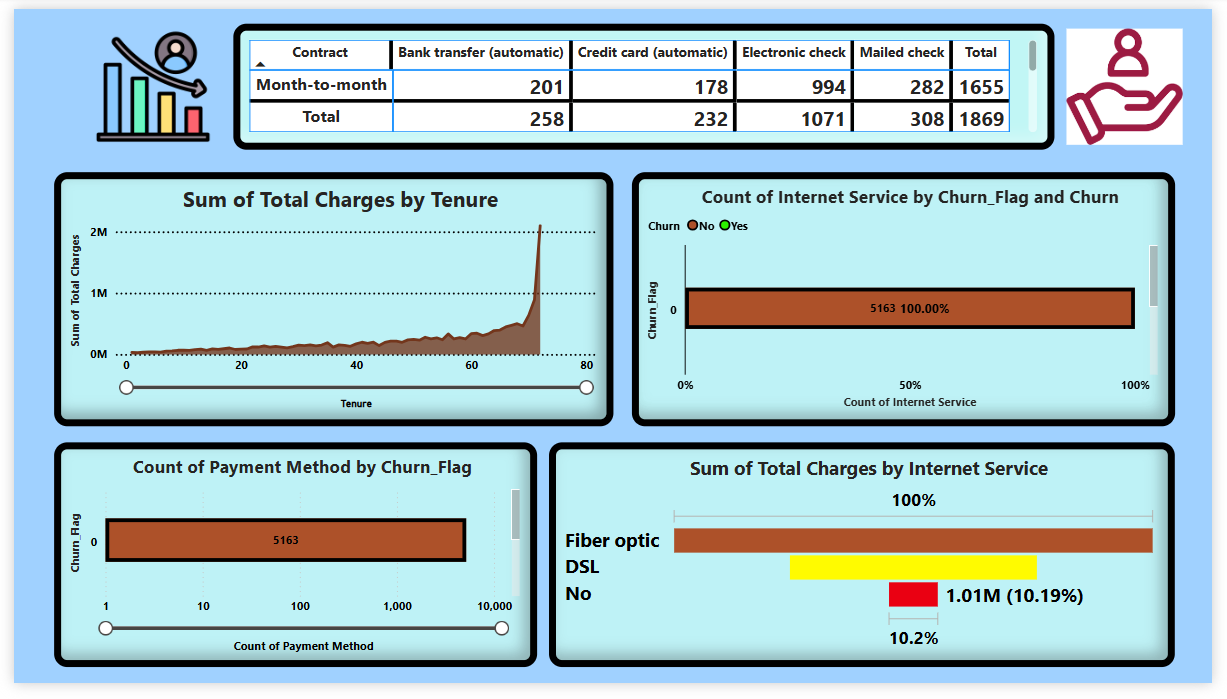

The page's visual inventory and layout, read from the dashboard file:
{"tool":"powerbi","page":{"name":"Page 2","canvas":[1280,720],"ordinal":1},"visuals":[{"type":"areaChart","title":"Sum of Total Charges by Tenure","fields":{"Category":["Telco-Customer-Churn Prediction.tenure"],"Y":["Sum(Telco-Customer-Churn Prediction.Total Charges)"]},"box":[42.9,174.3,597.1,271.4],"z":0},{"type":"funnel","fields":{"Y":["Sum(Telco-Customer-Churn Prediction.Total Charges)"],"Category":["Telco-Customer-Churn Prediction.Internet Service"]},"box":[571.4,462.9,668.6,240],"z":1000},{"type":"barChart","fields":{"Y":["CountNonNull(Telco-Customer-Churn Prediction.Payment Method)"],"Category":["Telco-Customer-Churn Prediction.Churn_Flag"]},"box":[42.9,462.9,515.7,240],"z":2000},{"type":"hundredPercentStackedBarChart","fields":{"Y":["CountNonNull(Telco-Customer-Churn Prediction.Internet Service)"],"Category":["Telco-Customer-Churn Prediction.Churn_Flag"],"Series":["Telco-Customer-Churn Prediction.Churn"]},"box":[660,174.3,580,271.4],"z":3000},{"type":"pivotTable","fields":{"Rows":["Telco-Customer-Churn Prediction.Contract"],"Columns":["Telco-Customer-Churn Prediction.Payment Method"],"Values":["Sum(Telco-Customer-Churn Prediction.Churn_Flag)"]},"box":[234.3,15.7,877.1,134.3],"z":4000},{"type":"image","box":[52.9,15.7,191.4,134.3],"z":4001},{"type":"image","box":[1111.4,15.7,150,134.3],"z":4002}]}

Visuals, with their boxes in screenshot pixels (x1, y1, x2, y2), scaled from the page's 1280x720 canvas onto the 1227x699 screenshot:
"Sum of Total Charges by Tenure" areaChart: [left=41, top=169, right=614, bottom=433]
funnel - Sum(Telco-Customer-Churn Prediction.Total Charges) x Telco-Customer-Churn Prediction.Internet Service: [left=548, top=449, right=1189, bottom=682]
barChart - CountNonNull(Telco-Customer-Churn Prediction.Payment Method) x Telco-Customer-Churn Prediction.Churn_Flag: [left=41, top=449, right=535, bottom=682]
hundredPercentStackedBarChart - CountNonNull(Telco-Customer-Churn Prediction.Internet Service) x Telco-Customer-Churn Prediction.Churn_Flag: [left=633, top=169, right=1189, bottom=433]
pivotTable - Telco-Customer-Churn Prediction.Contract x Telco-Customer-Churn Prediction.Payment Method: [left=225, top=15, right=1065, bottom=146]
image: [left=51, top=15, right=234, bottom=146]
image: [left=1065, top=15, right=1209, bottom=146]
